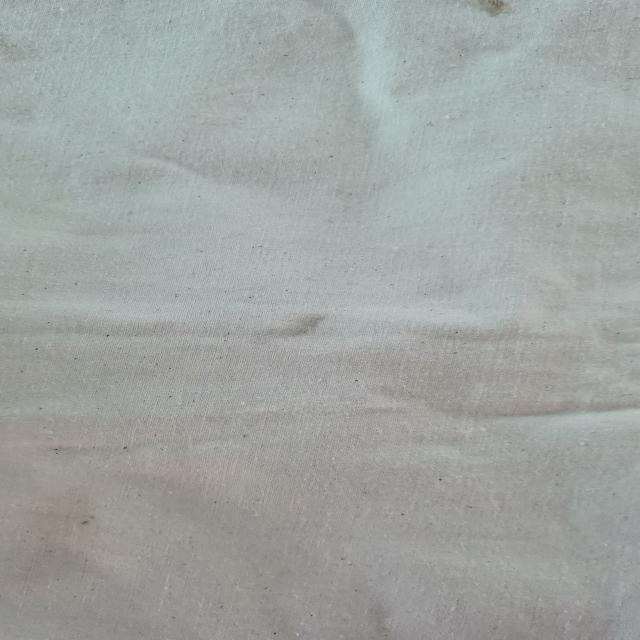taaaches: (424, 0, 536, 58), (249, 296, 347, 349)
